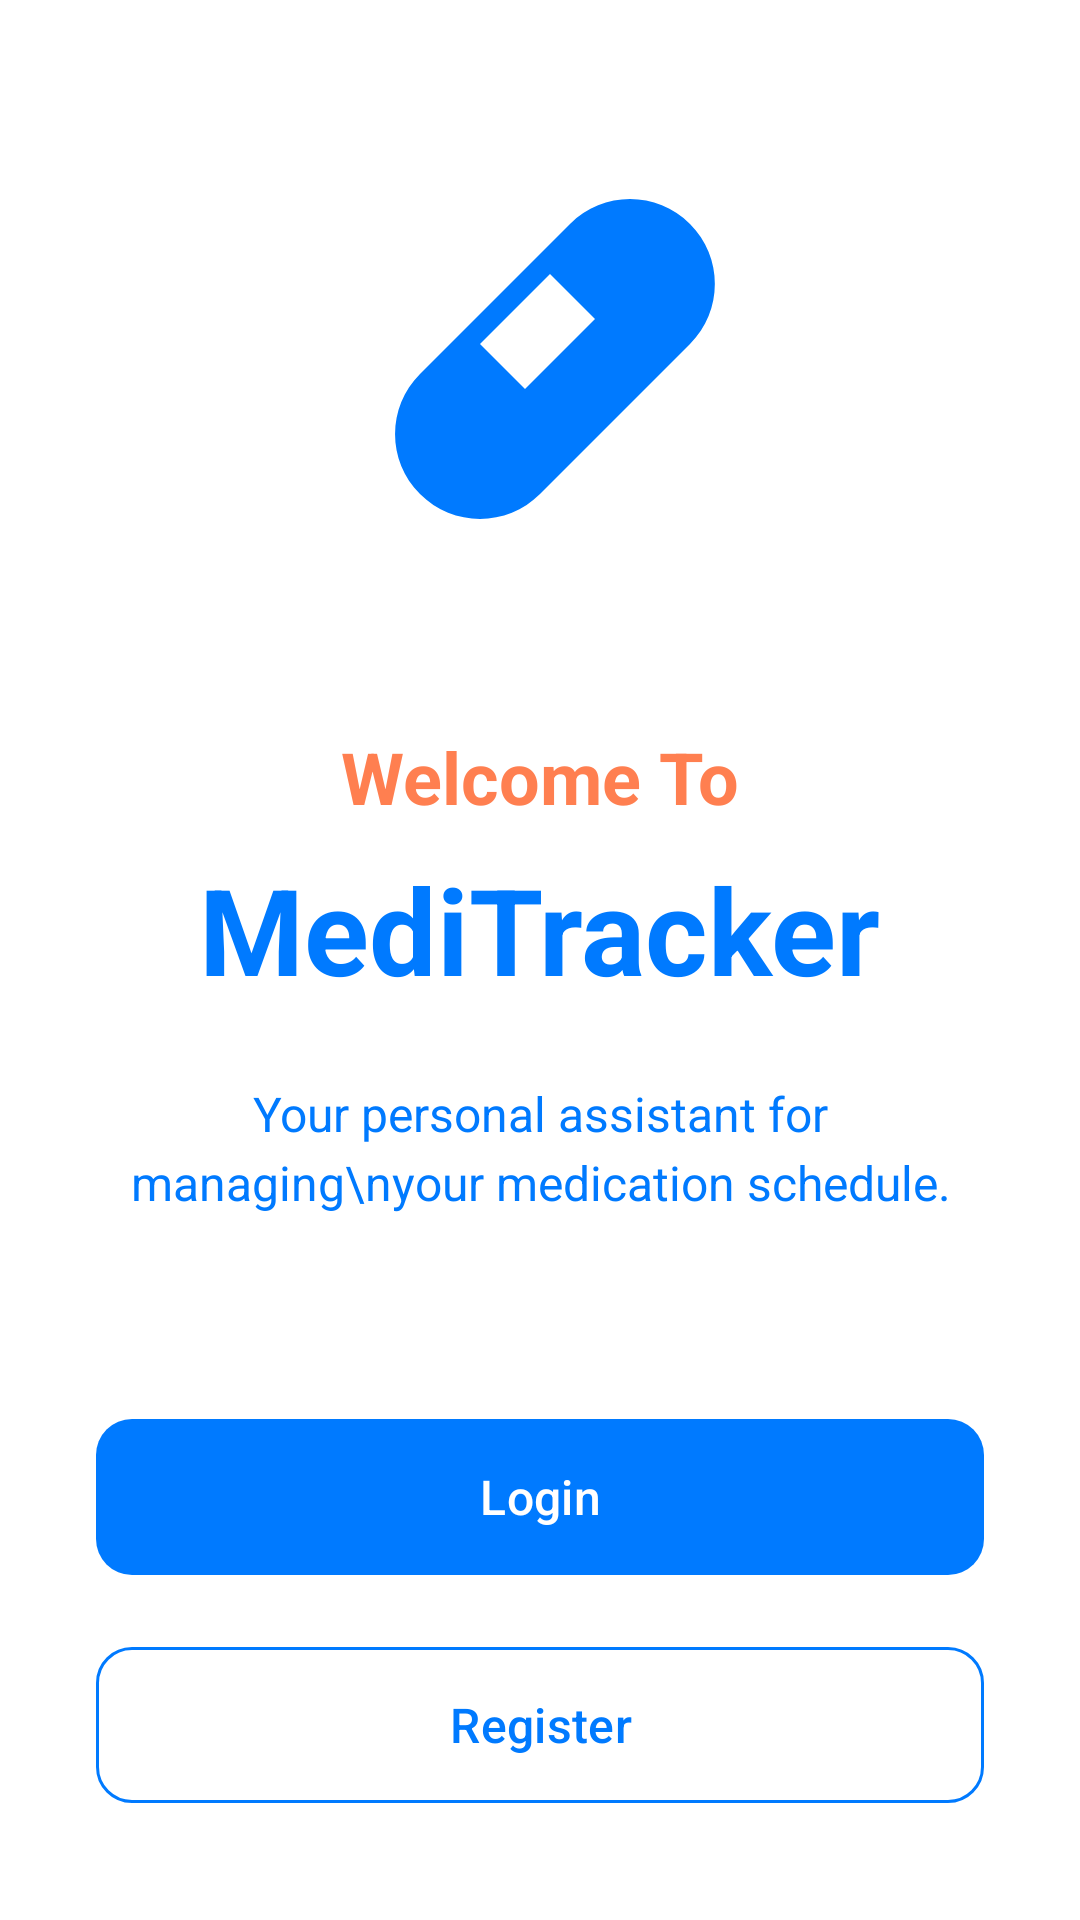

Where icons sit on this 1080x1920 app screen, as (x1, y1, x2, y2):
medicine: (395, 199, 715, 519)
